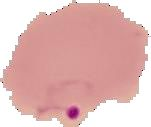parasitized: (26, 81, 107, 127)
